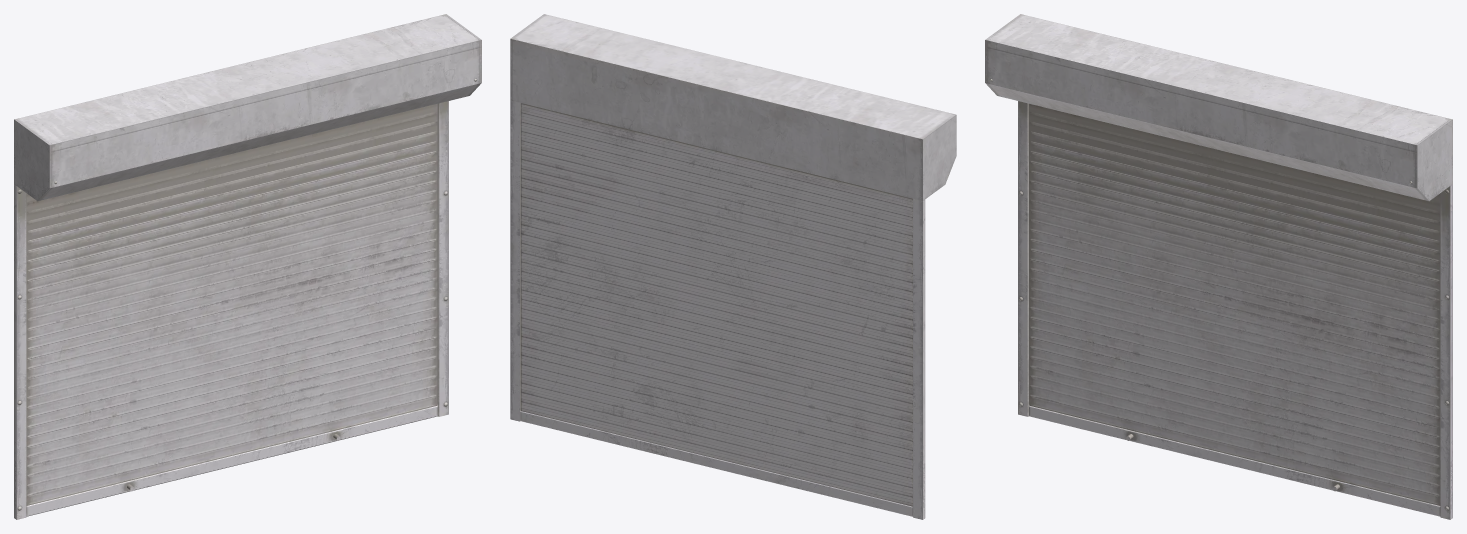
Rendered from rollershutter_window_01.glb.
The picture shows the model from 3 angles, left to right: view 1: azimuth 30°, elevation 25°; view 2: azimuth 150°, elevation 25°; view 3: azimuth 330°, elevation 25°; orthographic projection. The views are drawn at different scales.
Parts seen in each view (by area): view 1: rollershutter_window_01; view 2: rollershutter_window_01; view 3: rollershutter_window_01.
Part boxes in pixels (<box>): rollershutter_window_01: <box>14,14,481,519</box>; rollershutter_window_01: <box>510,14,956,519</box>; rollershutter_window_01: <box>985,14,1452,519</box>.
Size of the model in its own units: 2.1 by 1.85 by 0.2999.
Materials: 1 (1 with a texture image).
